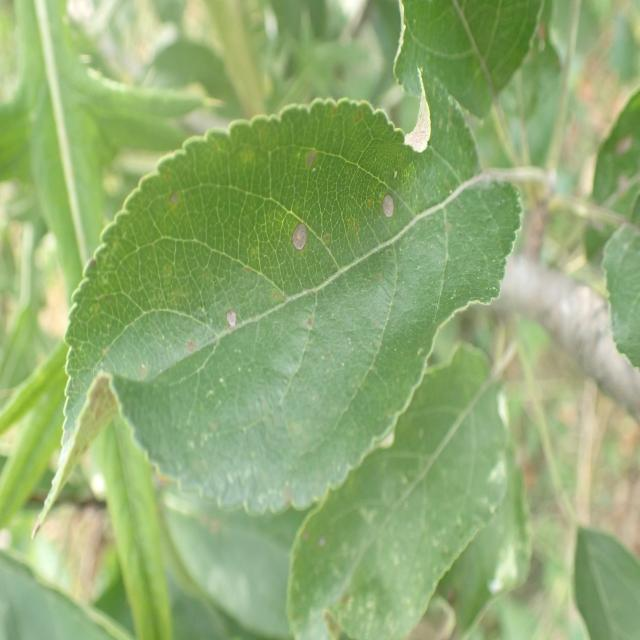frog-eye-leaf-spot: (60, 83, 524, 520)
